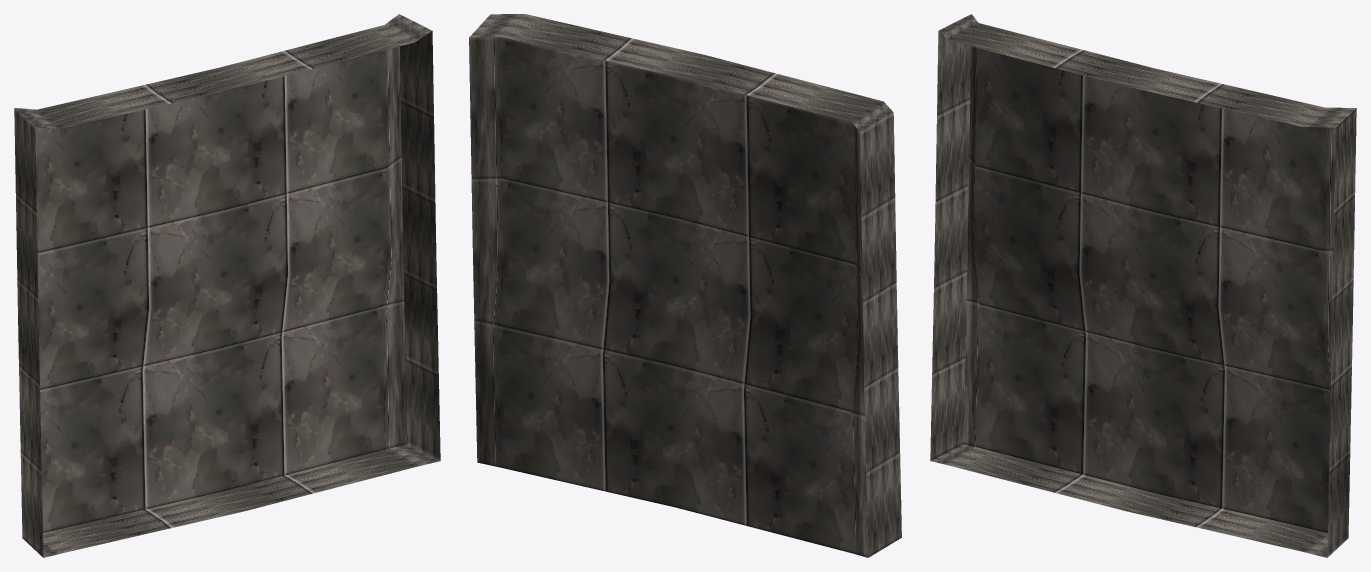
File: CH09_SMAUG_PLAYSURFACE_LAIR71.fbx
The picture shows the model from 3 angles, left to right: view 1: azimuth 30°, elevation 25°; view 2: azimuth 150°, elevation 25°; view 3: azimuth 330°, elevation 25°; orthographic projection.
Parts seen in each view (by area): view 1: CH09_SMAUG_PLAYSURFACE_LAIR71; view 2: CH09_SMAUG_PLAYSURFACE_LAIR71; view 3: CH09_SMAUG_PLAYSURFACE_LAIR71.
Boxes of the visible parts, x1,y1,x2,y2 form: CH09_SMAUG_PLAYSURFACE_LAIR71: (14,14,440,557); CH09_SMAUG_PLAYSURFACE_LAIR71: (469,14,901,557); CH09_SMAUG_PLAYSURFACE_LAIR71: (930,14,1356,557).
Size of the model in its own units: 185569 by 190511 by 31099.
1 material, 1 textured.
